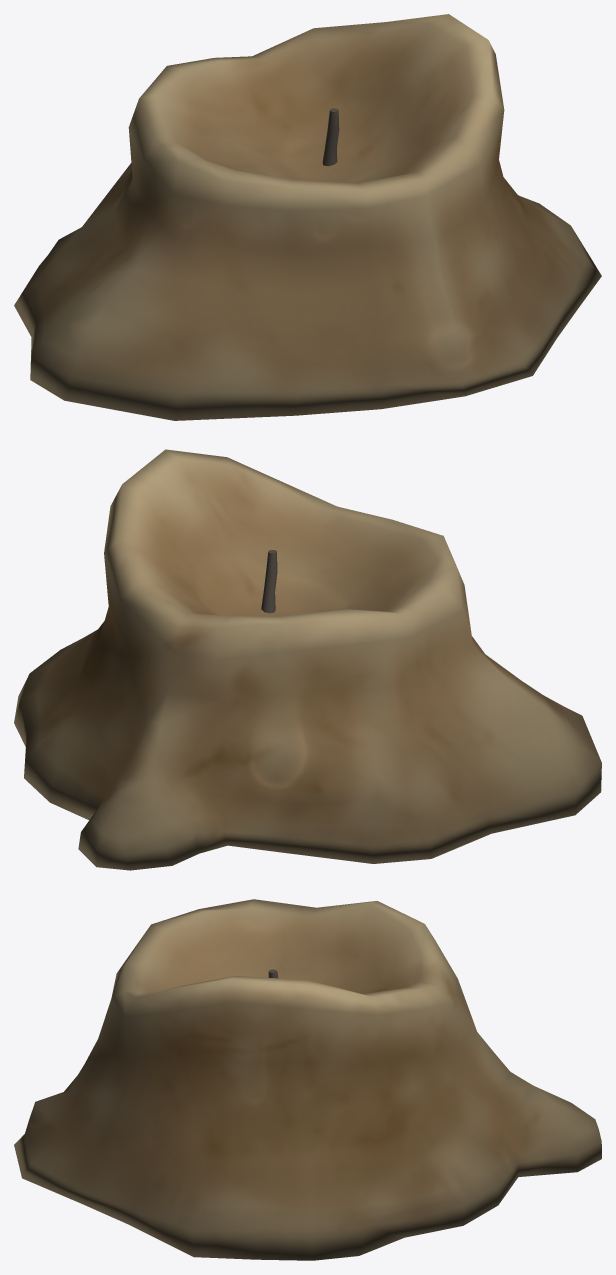
Rendered from SM_candleE_a1.fbx.
3 renders of one model, top to bottom at view 1: azimuth 30°, elevation 25°; view 2: azimuth 150°, elevation 25°; view 3: azimuth 270°, elevation 25°, orthographic. The views are drawn at different scales.
Parts seen in each view (by area): view 1: SM_candleE_a1_LOD0; view 2: SM_candleE_a1_LOD0; view 3: SM_candleE_a1_LOD0.
Boxes of the visible parts, left/top/right/bottom form: SM_candleE_a1_LOD0: left=14, top=14, right=601, bottom=420; SM_candleE_a1_LOD0: left=14, top=449, right=601, bottom=870; SM_candleE_a1_LOD0: left=14, top=899, right=601, bottom=1260.
Size of the model in its own units: 19.48 by 19.21 by 8.59.
1 material, 1 textured.
